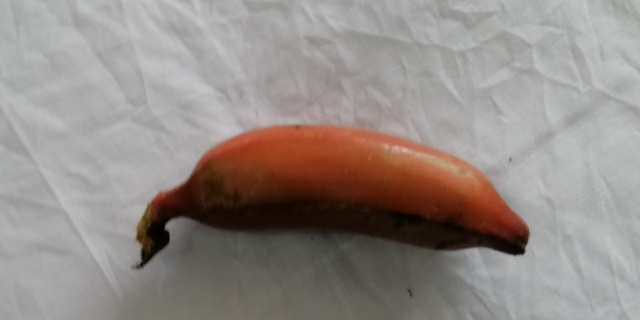banana_red: (134, 112, 537, 283)
